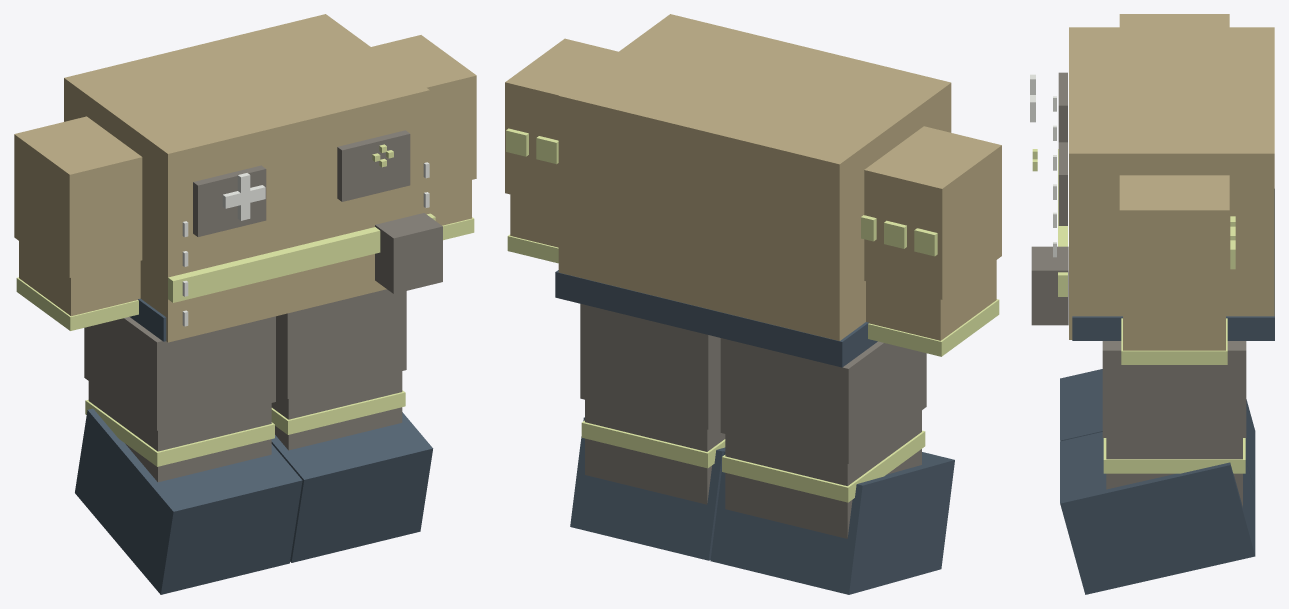
Rendered from paramedic-amber.glb.
3 renders of one model, left to right at view 1: azimuth 30°, elevation 25°; view 2: azimuth 150°, elevation 25°; view 3: azimuth 270°, elevation 25°, orthographic. The views are drawn at different scales.
Visible parts, largest first — view 1: jacket, shoe-Right, upper-sleeve-Right, trouser-Right, shoe-Left, trouser-Left, upper-sleeve-Left, lower-trouser-Right, reflective-band, lower-trouser-Left, lower-sleeve-Right, medical-pouch (+8 smaller); view 2: jacket, trouser-Right, shoe-Right, upper-sleeve-Right, trouser-Left, lower-trouser-Right, shoe-Left, medical-belt, upper-sleeve-Left, lower-trouser-Left, lower-sleeve-Right, reflective-leg-Right (+4 smaller); view 3: jacket, shoe-Left, upper-sleeve-Left, trouser-Left, lower-sleeve-Left, lower-trouser-Left, shoe-Right, medical-pouch, medical-belt, reflective-leg-Left, cuff-Left, upper-sleeve-Right (+3 smaller).
Boxes of the visible parts, x1,y1,x2,y2 form: jacket: [64, 14, 429, 342]; shoe-Right: [75, 408, 302, 594]; upper-sleeve-Right: [14, 116, 142, 277]; trouser-Right: [84, 316, 275, 430]; shoe-Left: [271, 412, 433, 562]; trouser-Left: [276, 289, 406, 398]; upper-sleeve-Left: [371, 35, 476, 189]; lower-trouser-Right: [88, 381, 271, 482]; reflective-band: [168, 213, 435, 302]; lower-trouser-Left: [271, 371, 402, 450]; lower-sleeve-Right: [19, 241, 140, 316]; medical-pouch: [375, 213, 442, 293]; jacket: [558, 14, 951, 340]; trouser-Right: [720, 338, 926, 463]; shoe-Right: [710, 451, 954, 594]; upper-sleeve-Right: [864, 126, 1001, 299]; trouser-Left: [580, 304, 720, 429]; lower-trouser-Right: [725, 410, 921, 538]; shoe-Left: [570, 417, 725, 560]; medical-belt: [555, 270, 877, 367]; upper-sleeve-Left: [505, 38, 618, 205]; lower-trouser-Left: [585, 400, 725, 504]; lower-sleeve-Right: [866, 260, 996, 340]; reflective-leg-Right: [722, 430, 925, 502]; jacket: [1069, 27, 1274, 339]; shoe-Left: [1060, 432, 1255, 594]; upper-sleeve-Left: [1119, 175, 1229, 312]; trouser-Left: [1102, 341, 1246, 437]; lower-sleeve-Left: [1123, 312, 1225, 350]; lower-trouser-Left: [1106, 438, 1242, 506]; shoe-Right: [1060, 369, 1255, 492]; medical-pouch: [1031, 246, 1068, 325]; medical-belt: [1072, 189, 1274, 340]; reflective-leg-Left: [1103, 438, 1245, 473]; cuff-Left: [1121, 318, 1227, 364]; upper-sleeve-Right: [1119, 14, 1229, 27].
Bounding box in the file's own units: 1.07 × 1.13 × 0.566.
